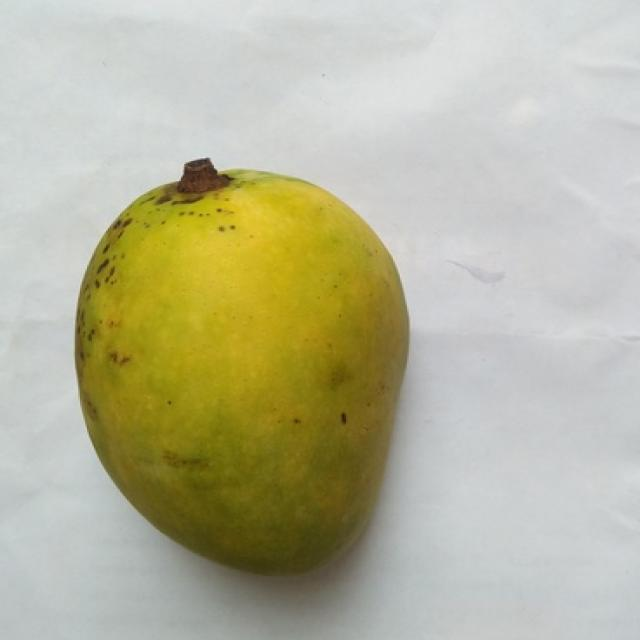Mango: (75, 171, 407, 570)
